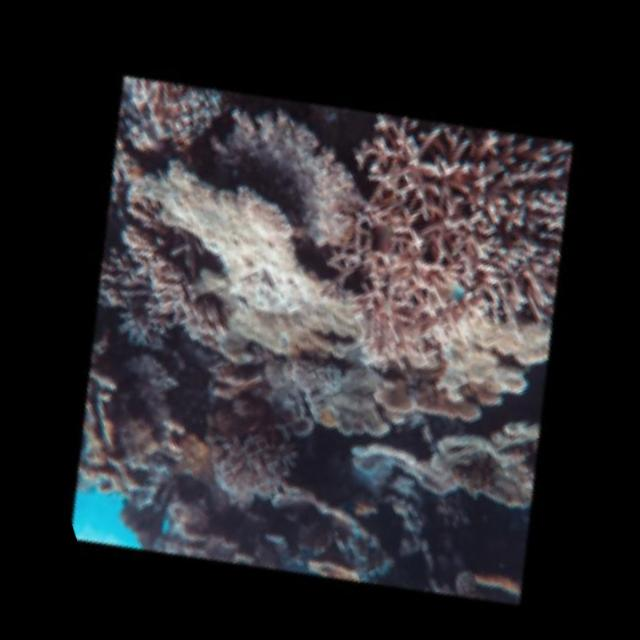Dead Coral: (288, 7, 640, 408), (213, 208, 585, 582), (45, 47, 428, 398), (151, 324, 379, 551)
